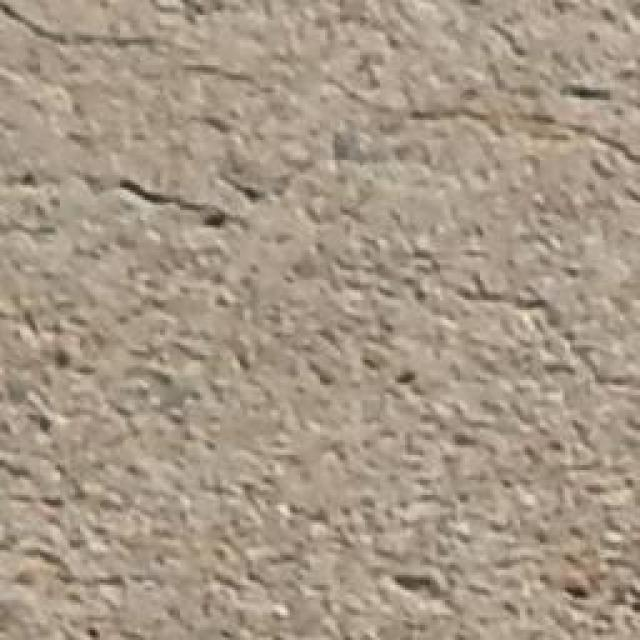concrete-crack: (326, 69, 640, 175), (442, 271, 640, 401), (4, 1, 175, 50), (115, 175, 248, 238)
